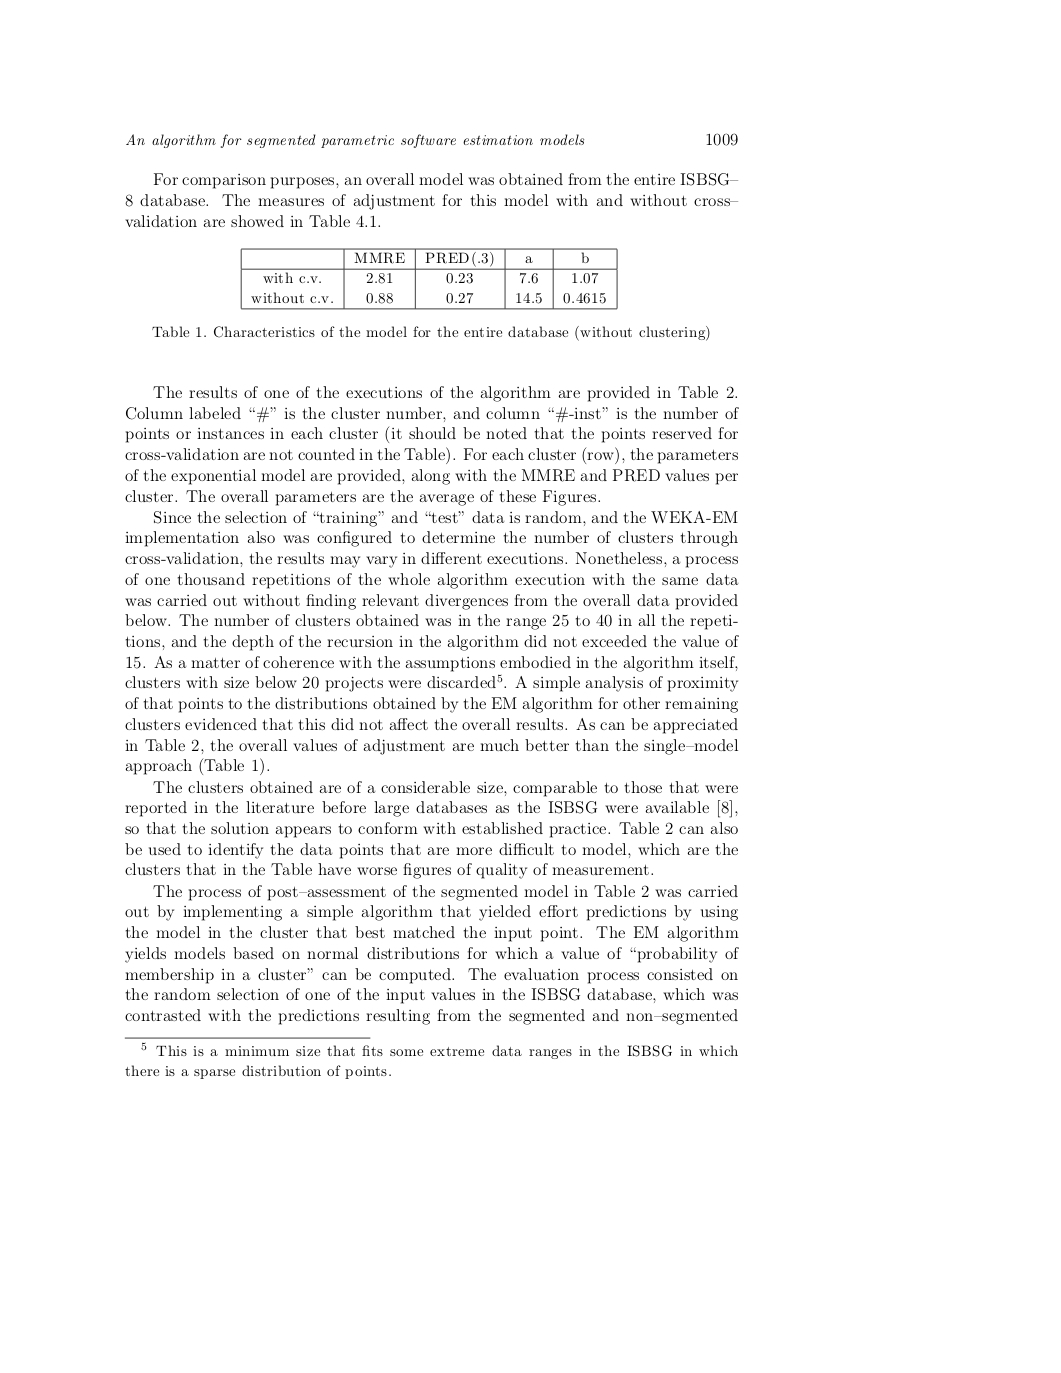Table: (240, 247, 617, 310)
figure: (124, 1035, 370, 1039)
